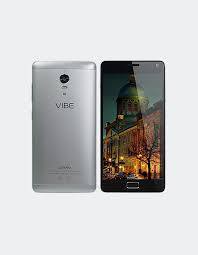lenovo: (98, 59, 168, 194), (27, 58, 97, 193)
